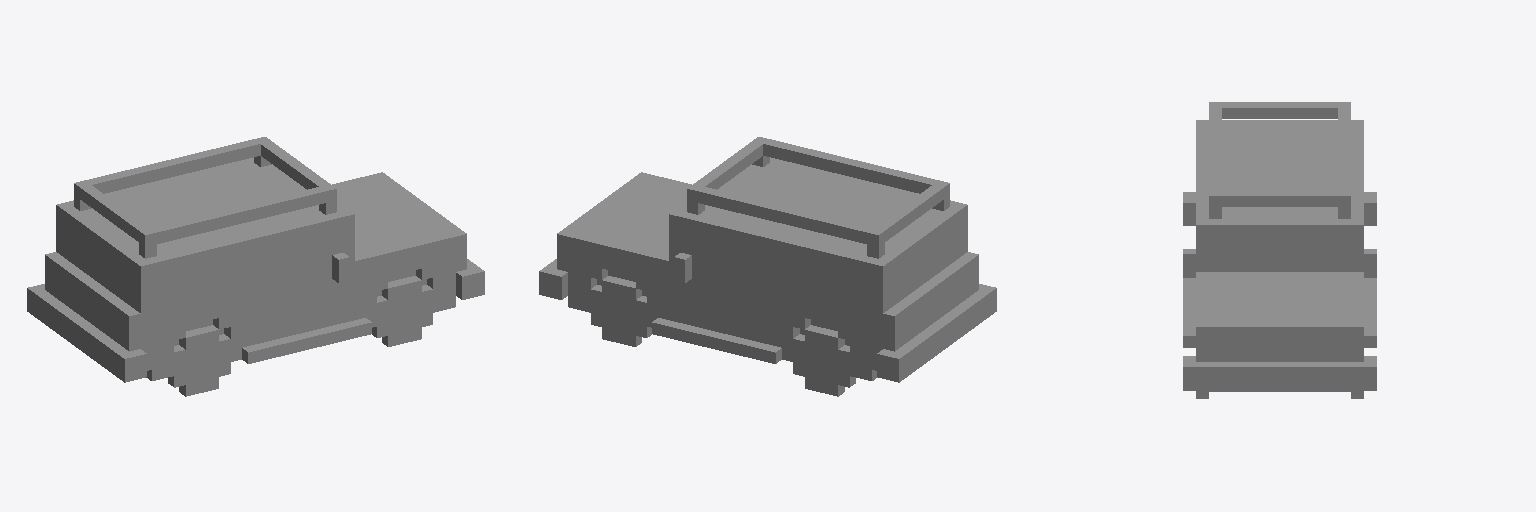
Rendered from suv.obj.
3 renders of one model, left to right at view 1: azimuth 30°, elevation 25°; view 2: azimuth 150°, elevation 25°; view 3: azimuth 270°, elevation 25°, orthographic.
Visible parts, largest first — view 1: veh_suv1_Plane-tex.002; view 2: veh_suv1_Plane-tex.002; view 3: veh_suv1_Plane-tex.002.
Boxes of the visible parts, box(x1,y1,x2,y2) form: veh_suv1_Plane-tex.002: box(27, 137, 484, 396); veh_suv1_Plane-tex.002: box(539, 137, 996, 396); veh_suv1_Plane-tex.002: box(1183, 102, 1376, 398).
Size of the model in its own units: 3.2 by 1.4 by 1.5.